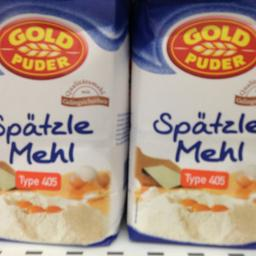flour: (126, 0, 255, 249), (0, 0, 128, 248)
